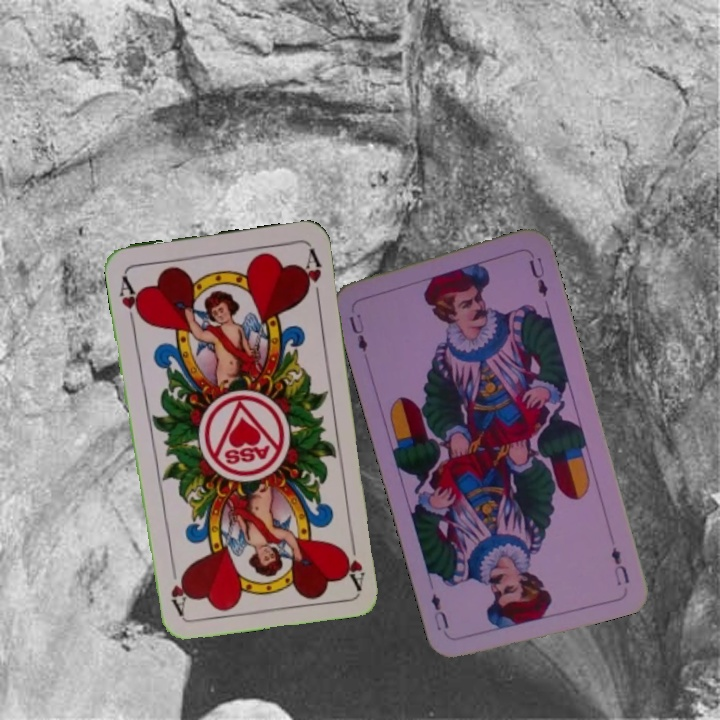EU: (607, 542, 632, 589), (344, 310, 370, 355)
HA: (114, 270, 146, 329), (338, 531, 368, 590)
